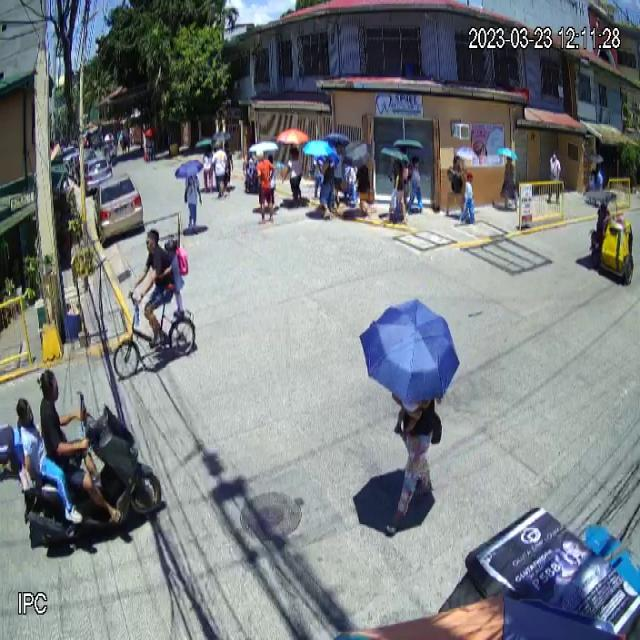Motorcycle: (0, 391, 163, 544)
Tricycle: (584, 188, 634, 288)
